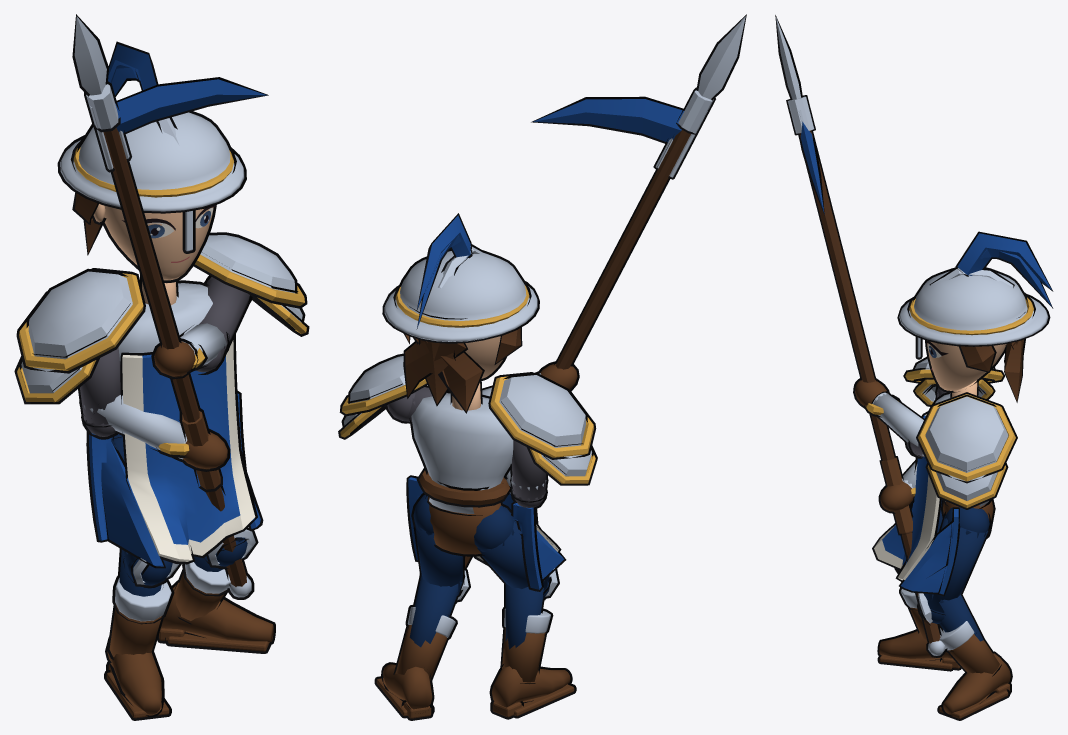
Rendered from pikeman.glb.
3 renders of one model, left to right at view 1: azimuth 30°, elevation 25°; view 2: azimuth 150°, elevation 25°; view 3: azimuth 270°, elevation 25°, orthographic. The views are drawn at different scales.
Visible parts, largest first — view 1: head, torso, fore_r, arm_r, arm_l, shin_r, shin_l, hips, fore_r_ink, head_ink, fore_l, arm_r_ink (+8 smaller); view 2: head, fore_r, torso, arm_r, shin_r, shin_l, hips, arm_l, thigh_r, head_ink, fore_r_ink, thigh_l (+7 smaller); view 3: head, arm_l, fore_r, shin_l, torso, fore_r_ink, thigh_l, hips, head_ink, shin_r, fore_l, arm_l_ink (+6 smaller).
Boxes of the visible parts, left/top/right/bottom form: head: left=60, top=44, right=244, bottom=305; torso: left=118, top=283, right=255, bottom=561; fore_r: left=74, top=16, right=266, bottom=597; arm_r: left=17, top=271, right=143, bottom=436; arm_l: left=195, top=235, right=306, bottom=372; shin_r: left=106, top=548, right=178, bottom=718; shin_l: left=159, top=529, right=273, bottom=651; hips: left=89, top=393, right=260, bottom=566; fore_r_ink: left=72, top=14, right=268, bottom=599; head_ink: left=57, top=41, right=246, bottom=297; fore_l: left=154, top=323, right=226, bottom=376; arm_r_ink: left=14, top=268, right=145, bottom=439; head: left=384, top=215, right=537, bottom=411; fore_r: left=464, top=16, right=745, bottom=568; torso: left=411, top=393, right=558, bottom=560; arm_r: left=490, top=375, right=595, bottom=507; shin_r: left=492, top=568, right=574, bottom=717; shin_l: left=376, top=570, right=468, bottom=718; hips: left=408, top=477, right=563, bottom=589; arm_l: left=340, top=356, right=431, bottom=437; thigh_r: left=474, top=505, right=549, bottom=598; head_ink: left=382, top=213, right=539, bottom=413; fore_r_ink: left=465, top=14, right=746, bottom=568; thigh_l: left=413, top=494, right=463, bottom=599; head: left=899, top=233, right=1051, bottom=400; arm_l: left=906, top=394, right=1015, bottom=507; fore_r: left=776, top=17, right=945, bottom=655; shin_l: left=918, top=593, right=1010, bottom=718; torso: left=874, top=393, right=988, bottom=580; fore_r_ink: left=775, top=15, right=947, bottom=657; thigh_l: left=920, top=507, right=989, bottom=623; hips: left=901, top=501, right=993, bottom=594; head_ink: left=897, top=231, right=1053, bottom=402; shin_r: left=879, top=589, right=960, bottom=669; fore_l: left=855, top=380, right=923, bottom=455; arm_l_ink: left=904, top=392, right=1017, bottom=509.
Size of the model in its own units: 0.8156 by 1.75 by 0.747.
